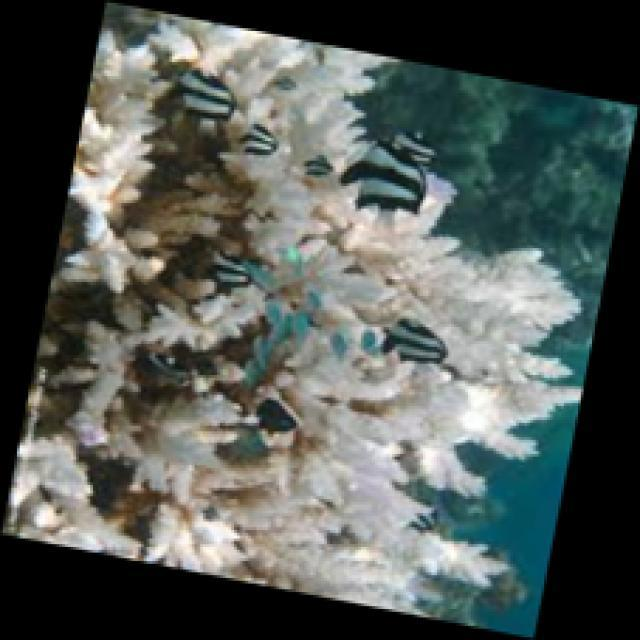Bleached: (1, 1, 584, 640), (65, 286, 272, 447), (65, 28, 174, 300), (1, 431, 147, 563)
